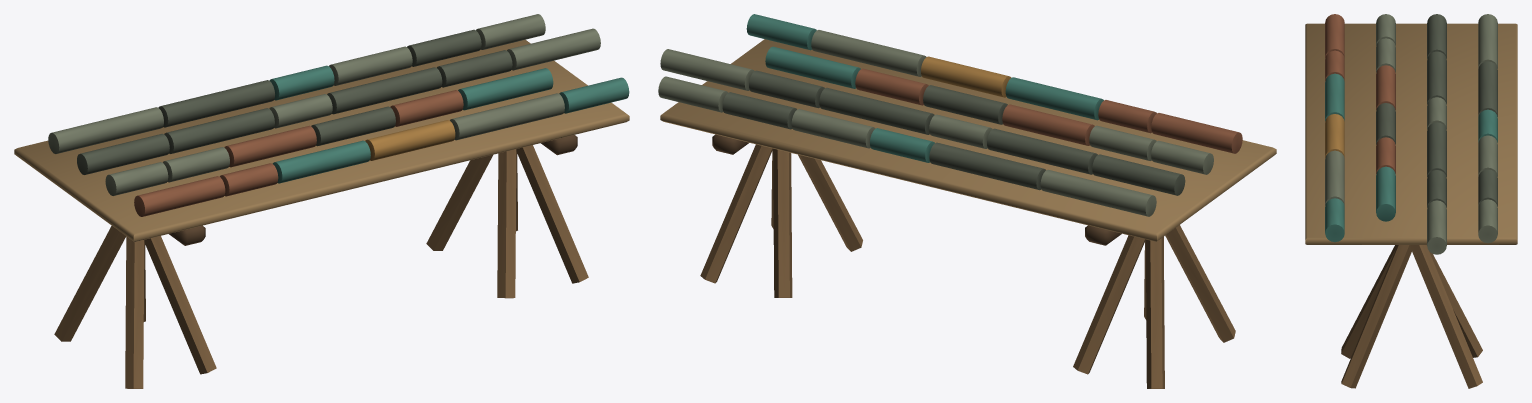
File: core_rack_a.glb
3 renders of one model, left to right at view 1: azimuth 30°, elevation 25°; view 2: azimuth 150°, elevation 25°; view 3: azimuth 270°, elevation 25°, orthographic. The views are drawn at different scales.
Visible parts, largest first — view 1: Surface; view 2: Surface; view 3: Surface.
Boxes of the visible parts, bbox=[...] form: Surface: bbox=[14, 14, 629, 388]; Surface: bbox=[658, 14, 1276, 388]; Surface: bbox=[1305, 14, 1517, 388].
Bounding box in the file's own units: 2.59 × 0.9338 × 1.
